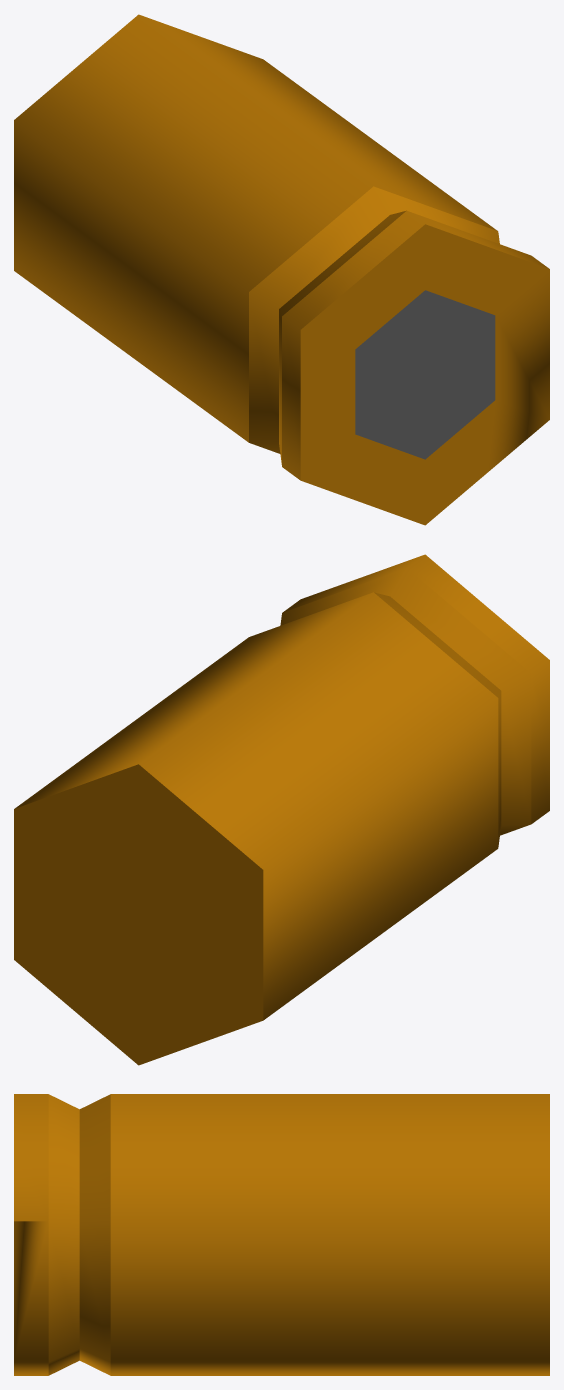
Rendered from 9x19_Shell.fbx.
3 renders of one model, top to bottom at view 1: azimuth 30°, elevation 25°; view 2: azimuth 150°, elevation 25°; view 3: azimuth 270°, elevation 25°, orthographic. The views are drawn at different scales.
Visible parts, largest first — view 1: 9x051; view 2: 9x051; view 3: 9x051.
Boxes of the visible parts, bbox=[...] form: 9x051: bbox=[14, 14, 549, 525]; 9x051: bbox=[14, 554, 549, 1065]; 9x051: bbox=[14, 1094, 549, 1375].
Bounding box in the file's own units: 7.39 × 8.53 × 14.71.
